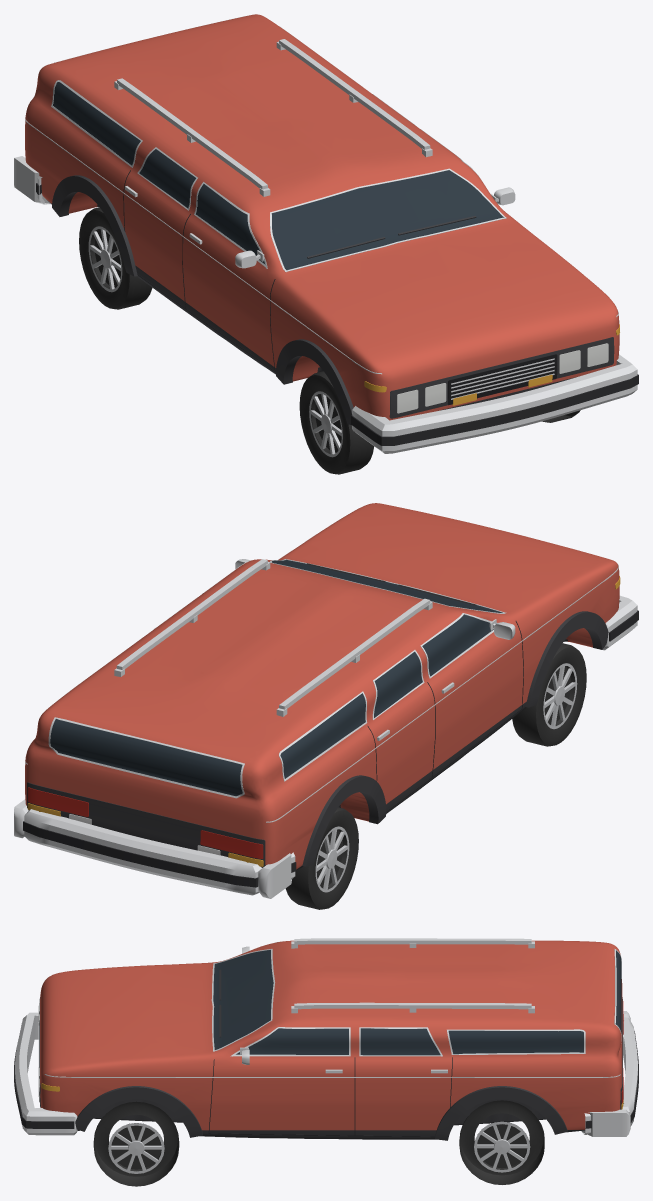
File: eagle.glb
3 renders of one model, top to bottom at view 1: azimuth 30°, elevation 25°; view 2: azimuth 150°, elevation 25°; view 3: azimuth 270°, elevation 25°, orthographic. The views are drawn at different scales.
Parts seen in each view (by area): view 1: paint, trim, glass, wheel_fr, wheel_rr, headlights; view 2: paint, trim, glass, wheel_fr, wheel_rr, taillights; view 3: paint, trim, glass, wheel_fl, wheel_rl.
Part boxes in pixels (left/top/right/bottom): paint: left=25, top=14, right=619, bottom=420; trim: left=14, top=16, right=638, bottom=453; glass: left=53, top=82, right=503, bottom=270; wheel_fr: left=299, top=371, right=374, bottom=474; wheel_rr: left=79, top=207, right=152, bottom=309; headlights: left=397, top=343, right=608, bottom=413; paint: left=25, top=503, right=619, bottom=870; trim: left=14, top=559, right=638, bottom=898; glass: left=50, top=559, right=502, bottom=796; wheel_fr: left=512, top=643, right=586, bottom=746; wheel_rr: left=285, top=807, right=358, bottom=909; taillights: left=27, top=787, right=263, bottom=858; paint: left=40, top=940, right=622, bottom=1139; trim: left=14, top=938, right=638, bottom=1140; glass: left=213, top=950, right=621, bottom=1055; wheel_fl: left=93, top=1101, right=179, bottom=1186; wheel_rl: left=459, top=1100, right=544, bottom=1184.
Bounding box in the file's own units: 1.98 × 1.42 × 4.74.
